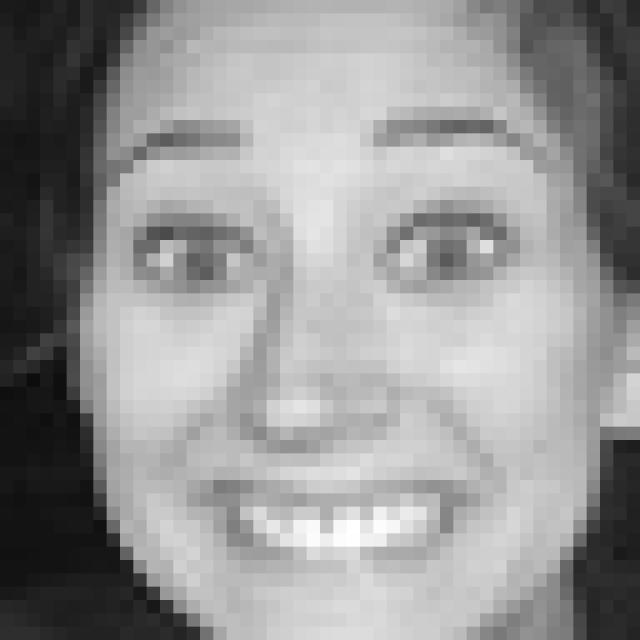happy: (96, 97, 566, 590)
